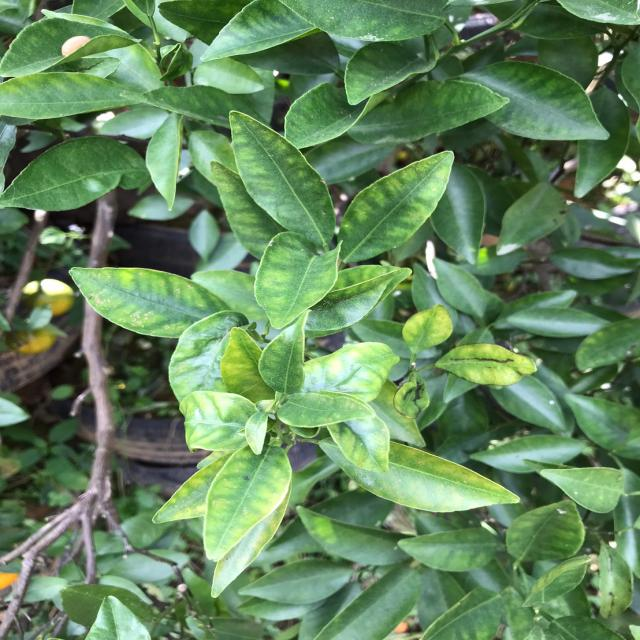greening: (232, 119, 328, 235), (351, 155, 462, 244), (193, 450, 291, 549), (84, 266, 194, 330), (254, 240, 327, 320)
